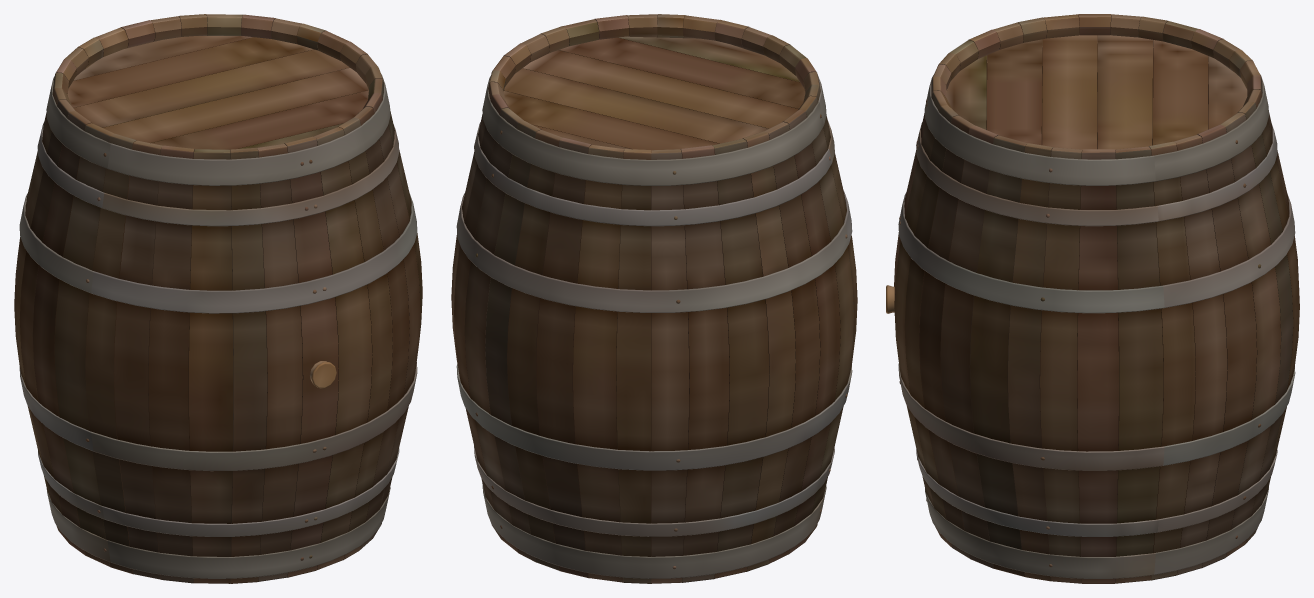
3 renders of one model, left to right at view 1: azimuth 30°, elevation 25°; view 2: azimuth 150°, elevation 25°; view 3: azimuth 270°, elevation 25°, orthographic.
Visible parts, largest first — view 1: wine_barrel_01, wine_barrel_01_Lid, wine_barrel_01_bung; view 2: wine_barrel_01, wine_barrel_01_Lid; view 3: wine_barrel_01, wine_barrel_01_Lid.
Part boxes in pixels (<box>): wine_barrel_01: <box>14,14,422,583</box>; wine_barrel_01_Lid: <box>67,36,368,149</box>; wine_barrel_01_bung: <box>310,361,336,388</box>; wine_barrel_01: <box>451,14,857,583</box>; wine_barrel_01_Lid: <box>503,36,805,152</box>; wine_barrel_01: <box>894,14,1299,583</box>; wine_barrel_01_Lid: <box>946,35,1247,149</box>.
Size of the model in its own units: 0.7419 by 0.8713 by 0.756.
Materials: 1 (1 with a texture image).
